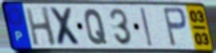3: (109, 7, 132, 47)
H: (24, 5, 58, 48)
I: (139, 7, 154, 48)
P: (161, 6, 189, 49)
Q: (83, 7, 109, 46)
X: (48, 6, 84, 48)
